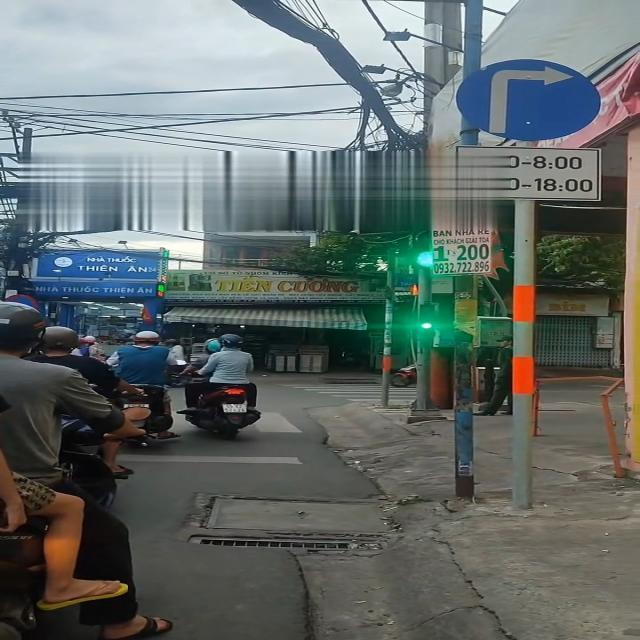301d-cac-xe-chi-duoc-re-phai-2: (452, 57, 598, 137)
